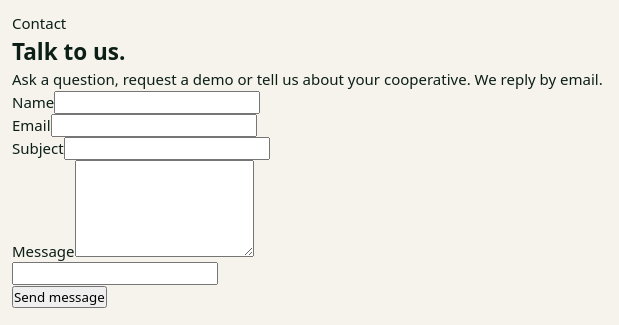
Scenario: Contact form › checks the email address
Type "Aline" into the field labelled "Name".
click(157, 102); type("Aline")  # box [54, 91, 260, 114]
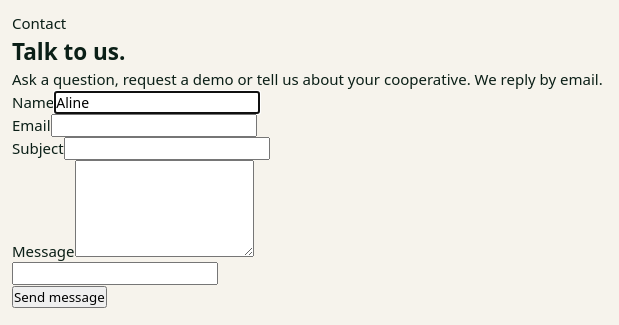
Type "not-an-email" into the field labelled "Email".
click(154, 125); type("not-an-email")  # box [50, 114, 256, 137]
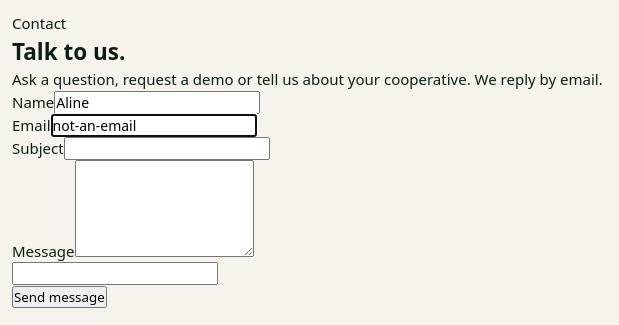
Type "Hello" into the field labelled "Subject".
click(167, 148); type("Hello")  # box [64, 137, 270, 160]
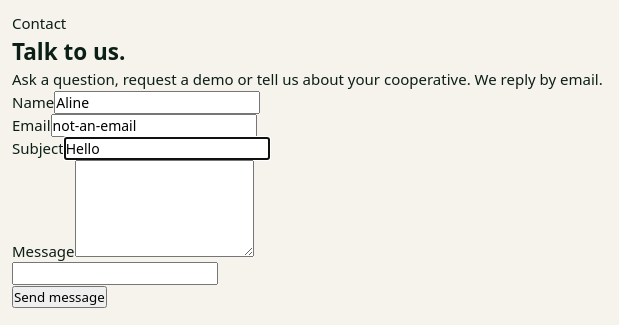
Type "A message that is long enough." into the text box labelled "Message".
click(164, 208); type("A message that is long enough.")  # box [74, 160, 254, 257]
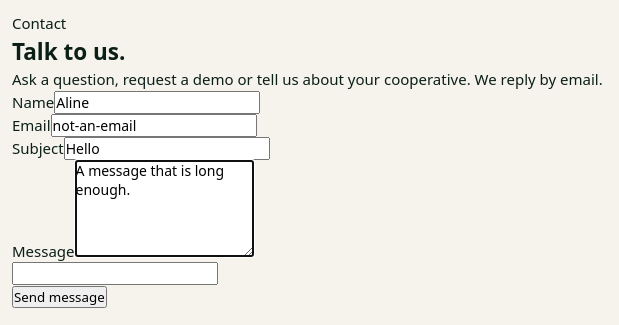
Click the button "Send message".
click(59, 297)  # box [12, 286, 107, 308]
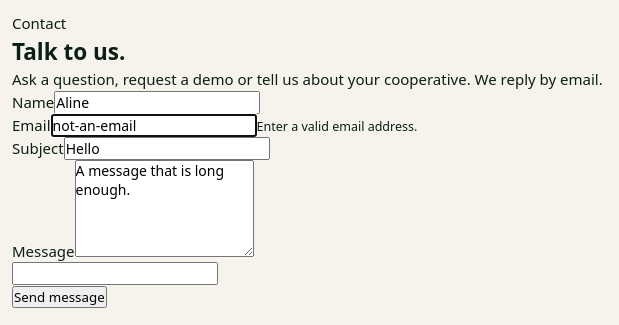
Expected: the text "Enter a valid email address." is shown, [256, 118, 417, 135]
